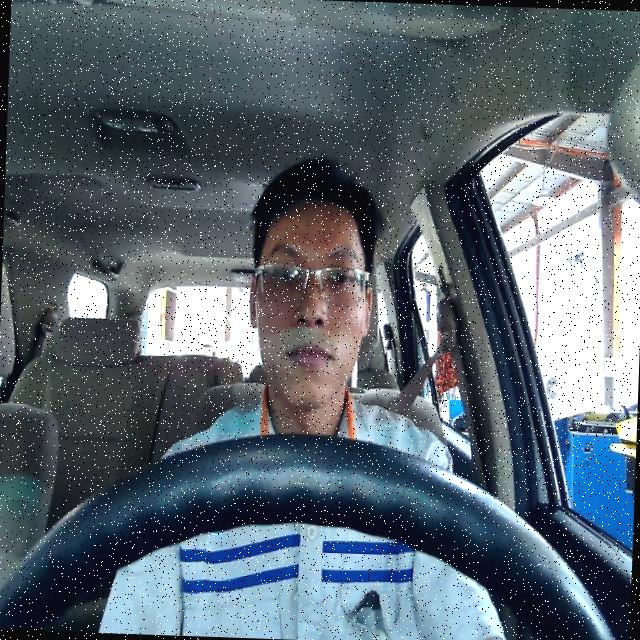focused: (244, 194, 376, 412)
